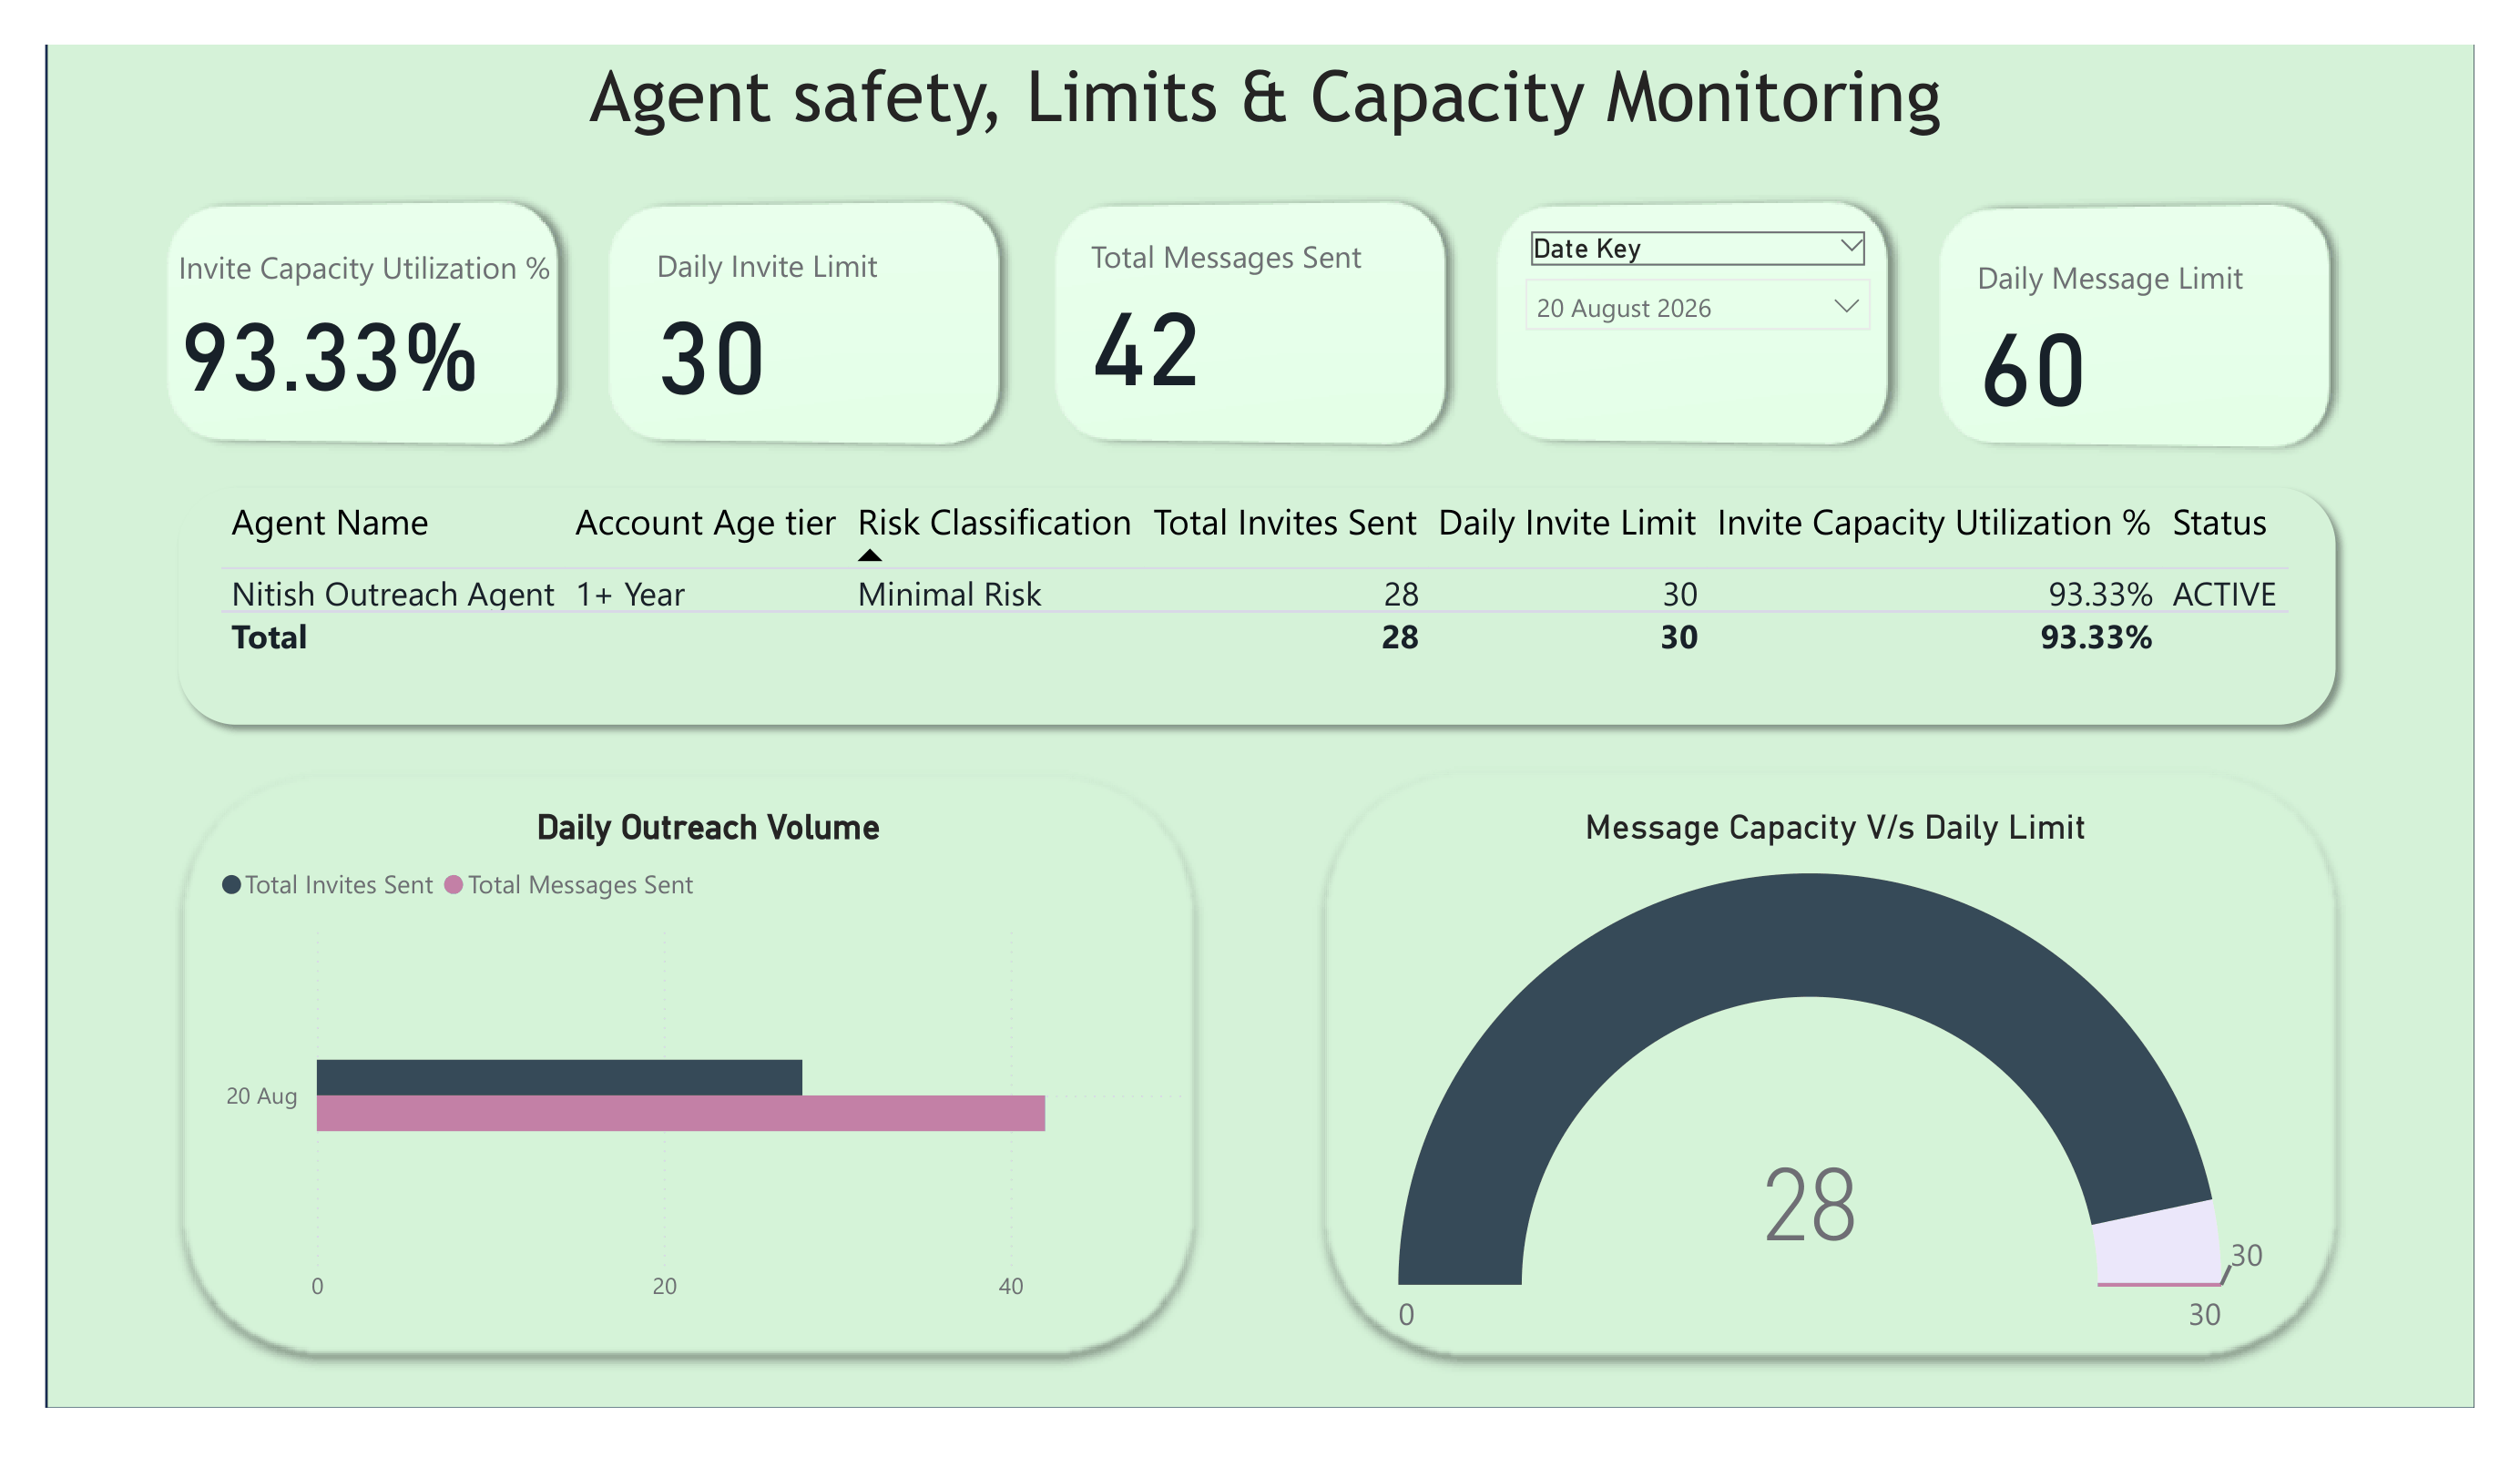

The dashboard page shown, as its layout file describes it:
{"tool":"powerbi","page":{"name":"Agent Health & Capacity Monitoring","canvas":[1280,720],"ordinal":1},"visuals":[{"type":"textbox","box":[263,0,760.1,57.9],"z":0},{"type":"cardVisual","fields":{"Data":["_Measures.Daily Invite Limit"]},"box":[305.2,86.9,190.6,112.2],"z":1000},{"type":"cardVisual","fields":{"Data":["_Measures.Invite Capacity Utilization %"]},"box":[53.1,88.1,237.7,106.2],"z":2000},{"type":"tableEx","fields":{"Values":["dim_agent.agent_name","dim_agent.account_age_tier","dim_agent.risk_classification","_Measures.Total Invites Sent","_Measures.Daily Invite Limit","_Measures.Invite Capacity Utilization %","dim_agent.status"]},"box":[86.9,232.8,1160.6,113.4],"z":3000},{"type":"gauge","title":"Message Capacity V/s Daily Limit","fields":{"Y":["_Measures.Total Invites Sent"],"MaxValue":["_Measures.Daily Invite Limit"],"TargetValue":["_Measures.Daily Invite Limit"]},"box":[708.2,400.5,470.5,298],"z":4000},{"type":"slicer","fields":{"Values":["fact_daily_outreach.date_key"]},"box":[769.7,92.9,202.7,106.2],"z":5000},{"type":"clusteredBarChart","title":"Daily Outreach Volume","fields":{"Category":["fact_daily_outreach.date_key"],"Y":["_Measures.Total Invites Sent","_Measures.Total Messages Sent"]},"box":[86.9,400.5,524.8,271.4],"z":6000},{"type":"cardVisual","fields":{"Data":["_Measures.Total Messages Sent"]},"box":[534.5,82,191.8,112.2],"z":7000},{"type":"cardVisual","fields":{"Data":["_Measures.Daily Message Limit"]},"box":[1001.3,92.9,202.7,106.2],"z":8000}]}

Visuals, with their boxes on the page's 1280x720 design canvas (x1, y1, x2, y2). These are canvas units, not pixel positions in the 2520x1457 screenshot, which may show the page scaled, cropped or inside an application window:
textbox: bbox=[263, 0, 1023, 58]
cardVisual - _Measures.Daily Invite Limit: bbox=[305, 87, 496, 199]
cardVisual - _Measures.Invite Capacity Utilization %: bbox=[53, 88, 291, 194]
tableEx - dim_agent.agent_name x dim_agent.account_age_tier: bbox=[87, 233, 1248, 346]
"Message Capacity V/s Daily Limit" gauge: bbox=[708, 400, 1179, 698]
slicer - fact_daily_outreach.date_key: bbox=[770, 93, 972, 199]
"Daily Outreach Volume" clusteredBarChart: bbox=[87, 400, 612, 672]
cardVisual - _Measures.Total Messages Sent: bbox=[534, 82, 726, 194]
cardVisual - _Measures.Daily Message Limit: bbox=[1001, 93, 1204, 199]
